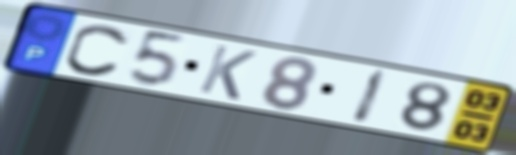5: (124, 27, 195, 90)
8: (258, 55, 320, 113), (398, 81, 458, 133)
C: (62, 23, 134, 79)
I: (348, 67, 392, 127)
K: (195, 42, 260, 103)
